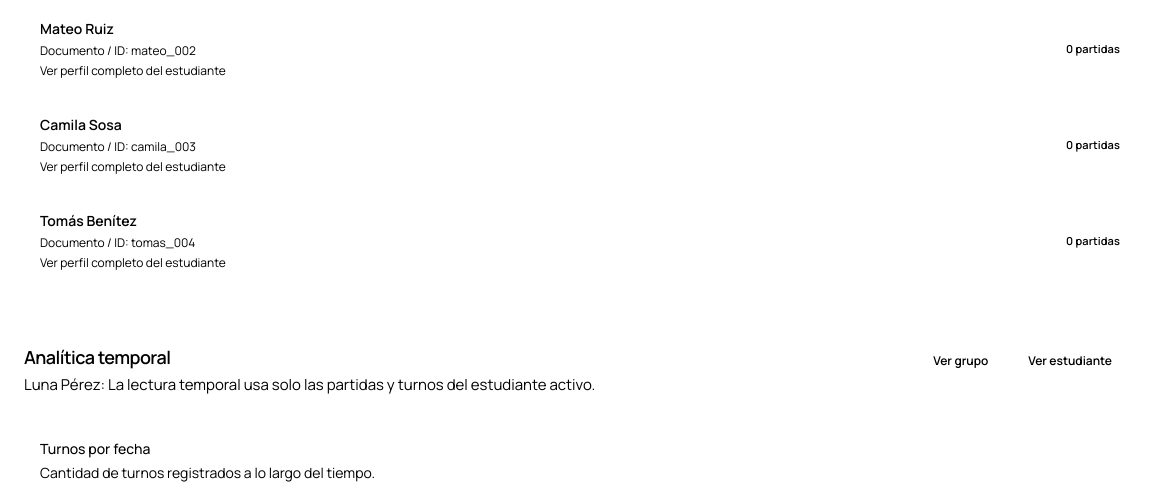
Test: InstitutionStudentProfilePage › permite cambiar el alcance de la analítica
(page scrolled)
Expected: the text "Luna Pérez: La lectura temporal usa solo las partidas y turnos del estudiante activo." is shown, [24,370,595,398]
Click the button "Ver grupo". click: (961,360)
box: [917,342,1004,378]
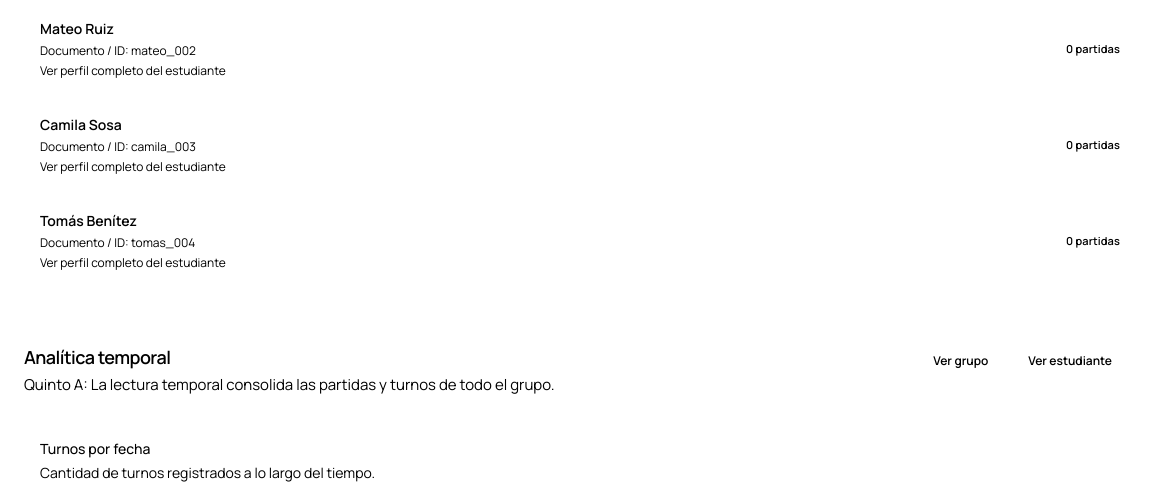
Result: the text "Quinto A: La lectura temporal consolida las partidas y turnos de todo el grupo." is shown at [24,370,555,398]
